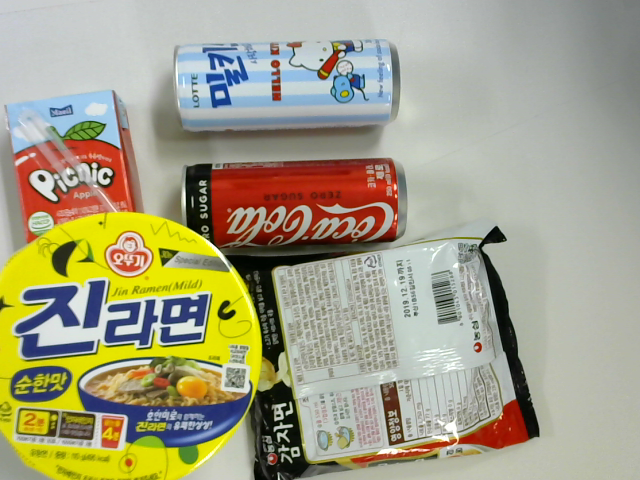Coca_Cola_Zero_Can_250ml: (156, 156, 416, 263)
Jinlamyeon_Mild_Taste_Large_Cup: (1, 215, 266, 476)
Milkies_250ml: (158, 40, 415, 141)
Picnic_Apple: (1, 83, 143, 255)
Potato: (229, 245, 534, 466)
